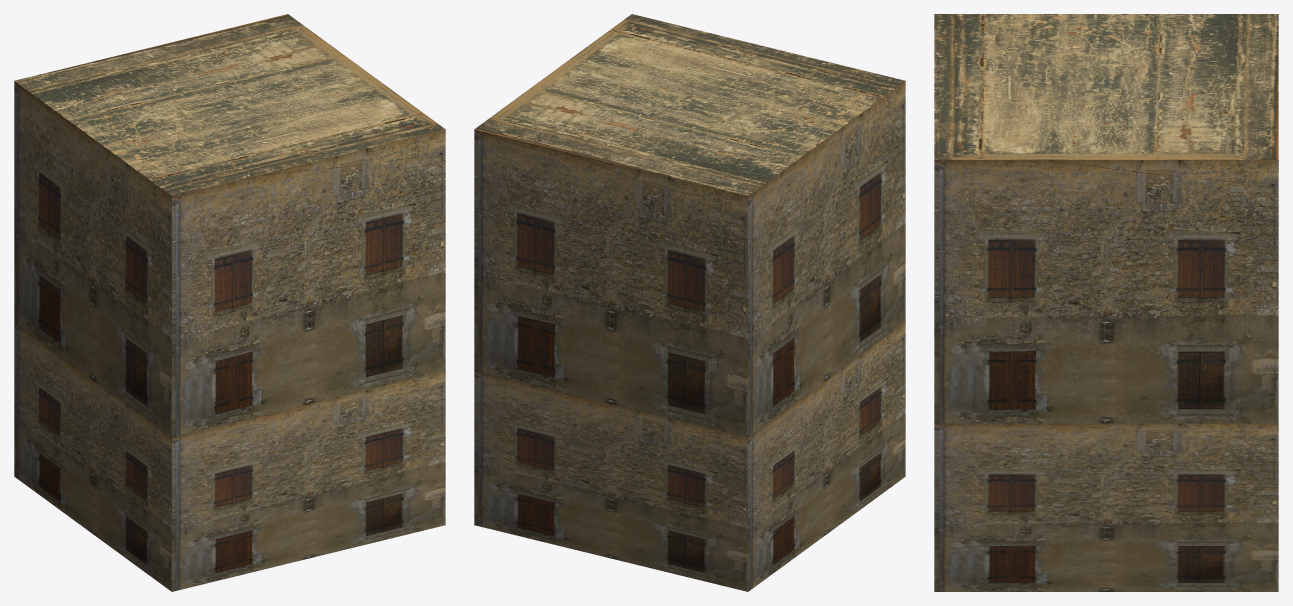
The model's file is BagBuilding18_0.fbx.
3 views of the same model, side by side, from view 1: azimuth 30°, elevation 25°; view 2: azimuth 150°, elevation 25°; view 3: azimuth 270°, elevation 25° (orthographic). The views are drawn at different scales.
Visible parts, largest first — view 1: box0, boxb0, roof0; view 2: box0, boxb0, roof0; view 3: box0, boxb0, roof0.
Part boxes in pixels (x1,y1,x2,y2): box0: (14, 81, 445, 437); boxb0: (14, 322, 445, 591); roof0: (14, 14, 445, 195); box0: (474, 81, 905, 437); boxb0: (474, 322, 905, 591); roof0: (474, 14, 905, 195); box0: (934, 160, 1278, 423); boxb0: (934, 423, 1278, 591); roof0: (934, 14, 1278, 159).
Bounding box in the file's own units: 16.83 × 23.24 × 16.79.
